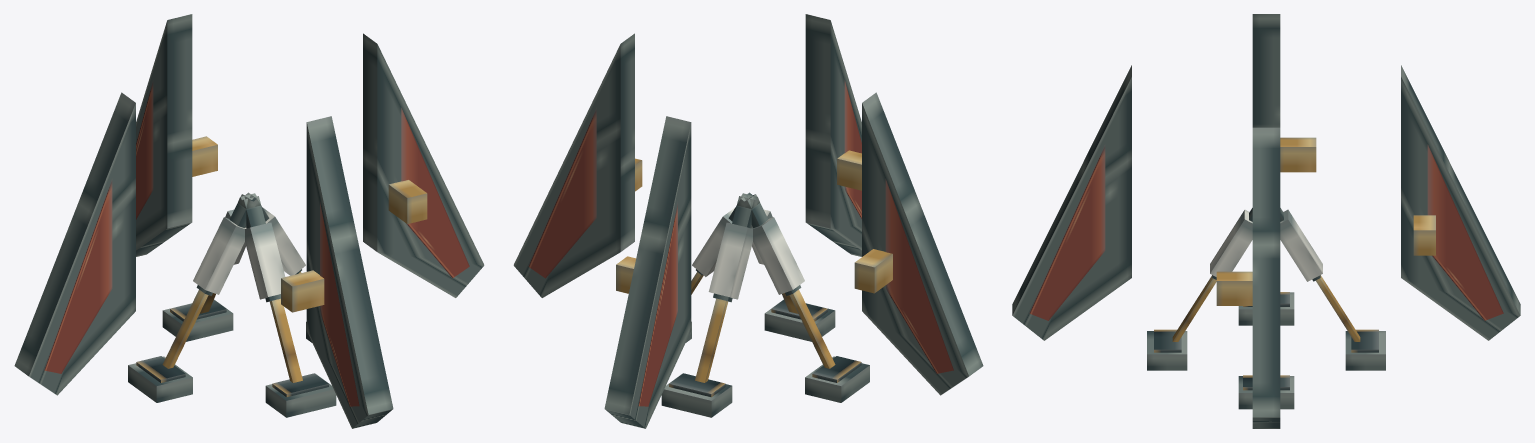
Rendered from rocket_fins.obj.
3 views of the same model, side by side, from view 1: azimuth 30°, elevation 25°; view 2: azimuth 150°, elevation 25°; view 3: azimuth 270°, elevation 25° (orthographic). The views are drawn at different scales.
Parts seen in each view (by area): view 1: Fins, LegSouth, LegWest, LegNorth, LegEast; view 2: Fins, LegNorth, LegWest, LegSouth, LegEast; view 3: Fins, LegNorth, LegSouth, LegEast, LegWest.
Boxes of the visible parts, x1,y1,x2,y2 form: Fins: (14, 14, 484, 428); LegSouth: (240, 196, 336, 417); LegWest: (128, 194, 256, 402); LegNorth: (162, 193, 256, 341); LegEast: (245, 192, 312, 342); Fins: (513, 14, 983, 428); LegNorth: (661, 196, 757, 417); LegWest: (744, 194, 869, 402); LegSouth: (741, 193, 835, 341); LegEast: (685, 192, 752, 342); Fins: (1012, 14, 1520, 428); LegNorth: (1280, 208, 1385, 370); LegSouth: (1147, 208, 1252, 370); LegEast: (1238, 375, 1294, 409); LegWest: (1238, 292, 1294, 325).
Size of the model in its own units: 2.29 by 1.43 by 2.29.
